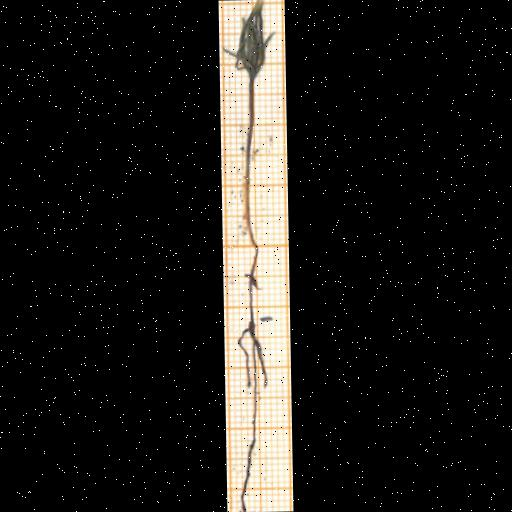flowerPinus: (232, 0, 273, 81)
rootPinus: (239, 319, 267, 512)
stemPinus: (244, 77, 259, 321)
